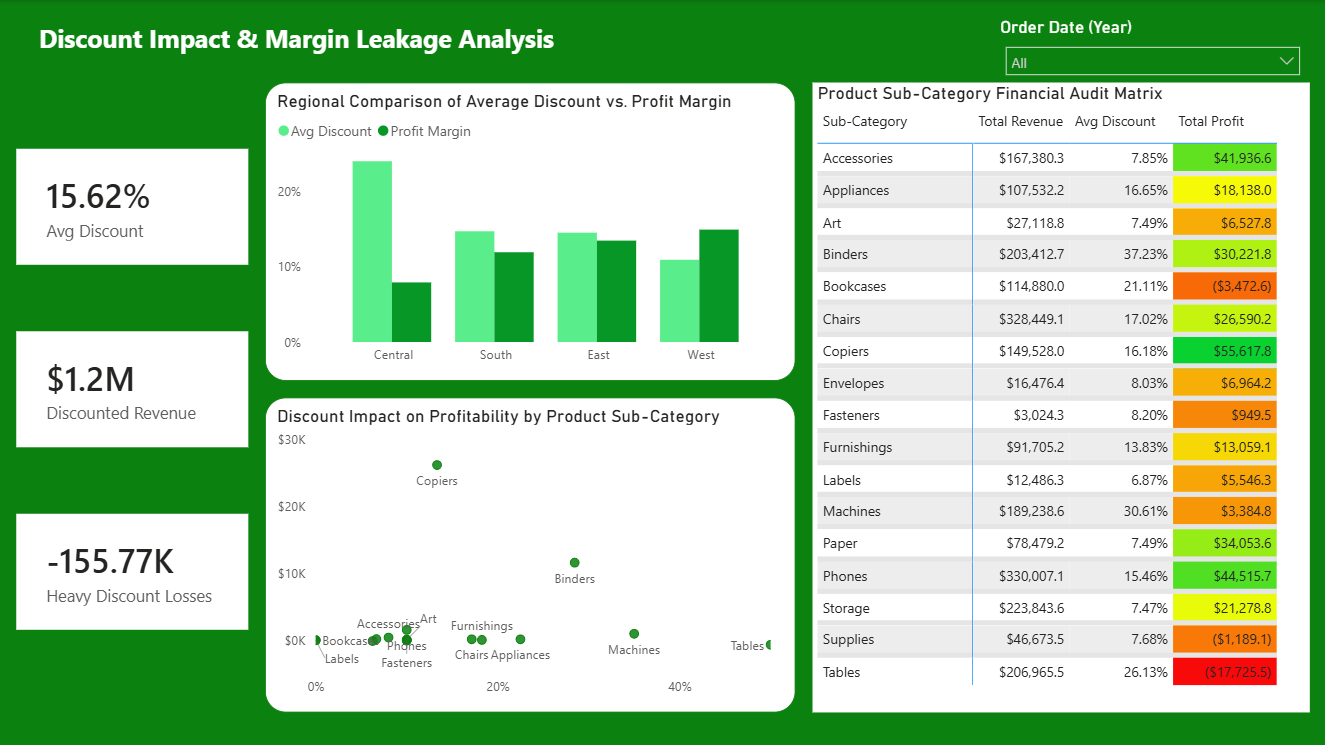

Layout of this report page (visuals, bound fields, positions):
{"tool":"powerbi","page":{"name":"Page 3","canvas":[1280,720],"ordinal":2},"visuals":[{"type":"cardVisual","fields":{"Data":["Sample - Superstore.Discounted Revenue"]},"box":[16,320,224,112],"z":0},{"type":"cardVisual","fields":{"Data":["Sample - Superstore.Avg Discount"]},"box":[16,144,224,112],"z":1000},{"type":"cardVisual","fields":{"Data":["Sample - Superstore.Heavy Discount Losses"]},"box":[16,496,224,112],"z":2000},{"type":"scatterChart","title":"Discount Impact on Profitability by Product Sub-Category","fields":{"Category":["Sample - Superstore.Sub-Category"],"X":["Sample - Superstore.Avg Discount"],"Y":["Sample - Superstore.Total Profit"]},"box":[256,384,512,304],"z":3000},{"type":"clusteredColumnChart","title":"Regional Comparison of Average Discount vs. Profit Margin","fields":{"Category":["Sample - Superstore.Region"],"Y":["Sample - Superstore.Avg Discount","Sample - Superstore.Profit Margin"]},"box":[256,80,512,288],"z":4000},{"type":"pivotTable","title":"Product Sub-Category Financial Audit Matrix","fields":{"Rows":["Sample - Superstore.Sub-Category"],"Values":["Sample - Superstore.Total Revenue","Sample - Superstore.Avg Discount","Sample - Superstore.Total Profit"]},"box":[784,80,480,608],"z":5000},{"type":"textbox","box":[32,16,528,48],"z":6000},{"type":"slicer","title":"Order Date (Year)","fields":{"Values":["Sample - Superstore.Order Date.Variation.Date Hierarchy.Year"]},"box":[960,16,304,64],"z":7000}]}

Visuals, with their boxes in screenshot pixels (x1, y1, x2, y2), scaled from the page's 1280x720 canvas onto the 1325x745 screenshot:
cardVisual - Sample - Superstore.Discounted Revenue: [left=17, top=331, right=248, bottom=447]
cardVisual - Sample - Superstore.Avg Discount: [left=17, top=149, right=248, bottom=265]
cardVisual - Sample - Superstore.Heavy Discount Losses: [left=17, top=513, right=248, bottom=629]
"Discount Impact on Profitability by Product Sub-Category" scatterChart: [left=265, top=397, right=795, bottom=712]
"Regional Comparison of Average Discount vs. Profit Margin" clusteredColumnChart: [left=265, top=83, right=795, bottom=381]
"Product Sub-Category Financial Audit Matrix" pivotTable: [left=812, top=83, right=1308, bottom=712]
textbox: [left=33, top=17, right=580, bottom=66]
"Order Date (Year)" slicer: [left=994, top=17, right=1308, bottom=83]
